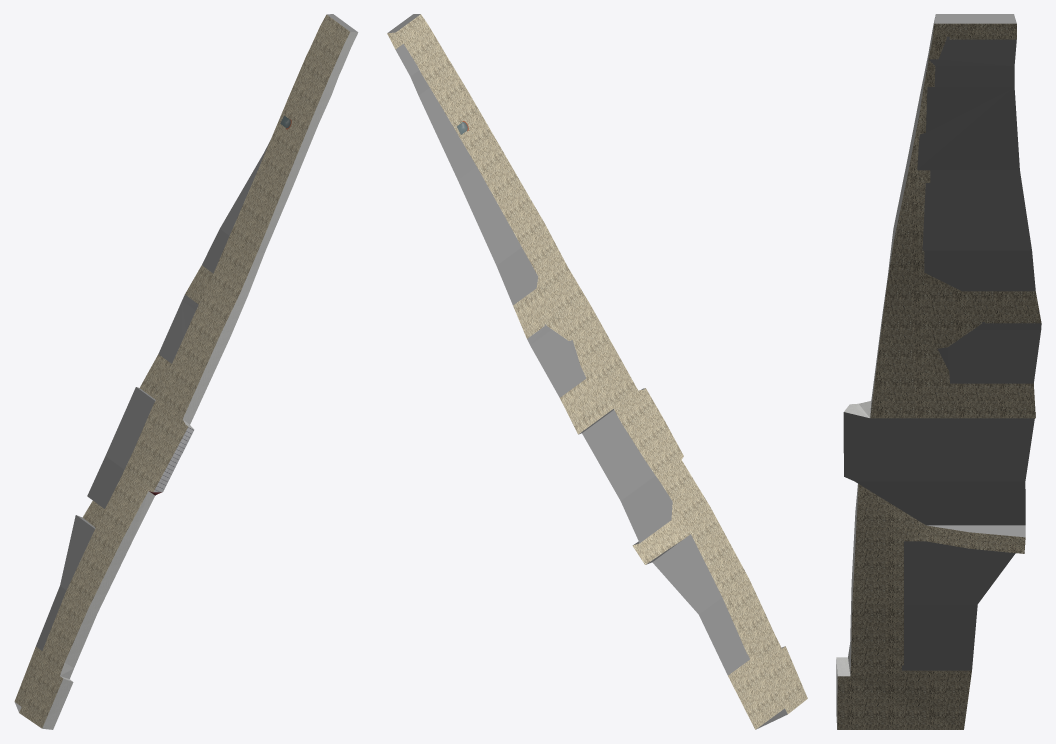
The model's file is Pikk_jalg_myyr_1.obj.
3 renders of one model, left to right at view 1: azimuth 30°, elevation 25°; view 2: azimuth 150°, elevation 25°; view 3: azimuth 270°, elevation 25°, orthographic. The views are drawn at different scales.
Parts seen in each view (by area): view 1: Pikk_jalg_myyr_1; view 2: Pikk_jalg_myyr_1; view 3: Pikk_jalg_myyr_1.
Boxes of the visible parts, x1,y1,x2,y2 form: Pikk_jalg_myyr_1: [14, 14, 358, 729]; Pikk_jalg_myyr_1: [387, 14, 807, 729]; Pikk_jalg_myyr_1: [836, 14, 1041, 729].
Bounding box in the file's own units: 64.44 × 105 × 20.06.
